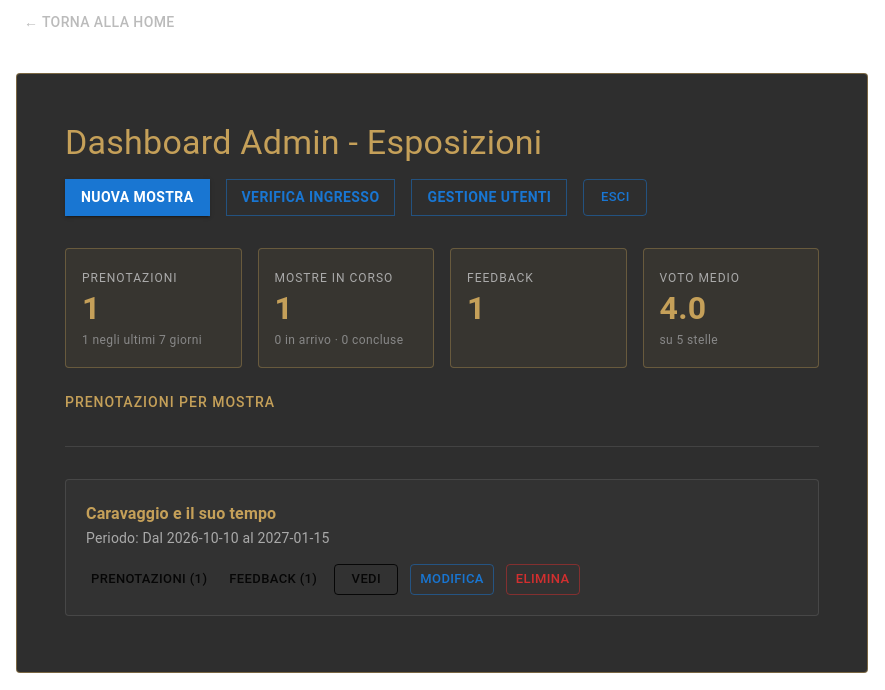
Test: AdminDashboard - gestione › logout: cancella il token e torna al login
This screenshot has width=885, height=690.
Expected: the heading "Caravaggio e il suo tempo" is shown, [86,504,276,523]
Click the button "Esci". click: (615, 198)
box: [583,180,647,216]
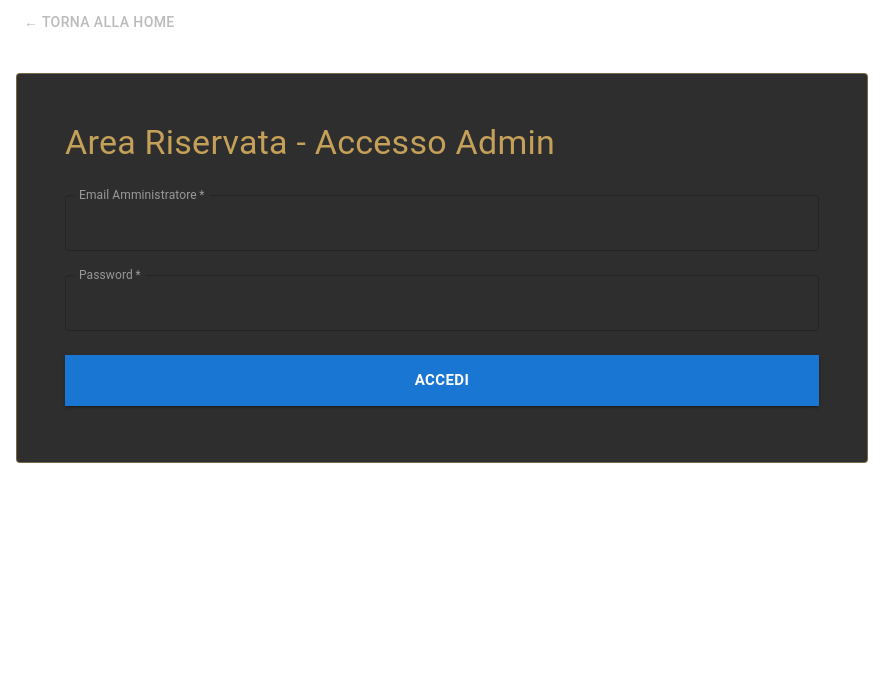
Now the heading "Area Riservata - Accesso Admin" is shown, box [65,122,555,162]
